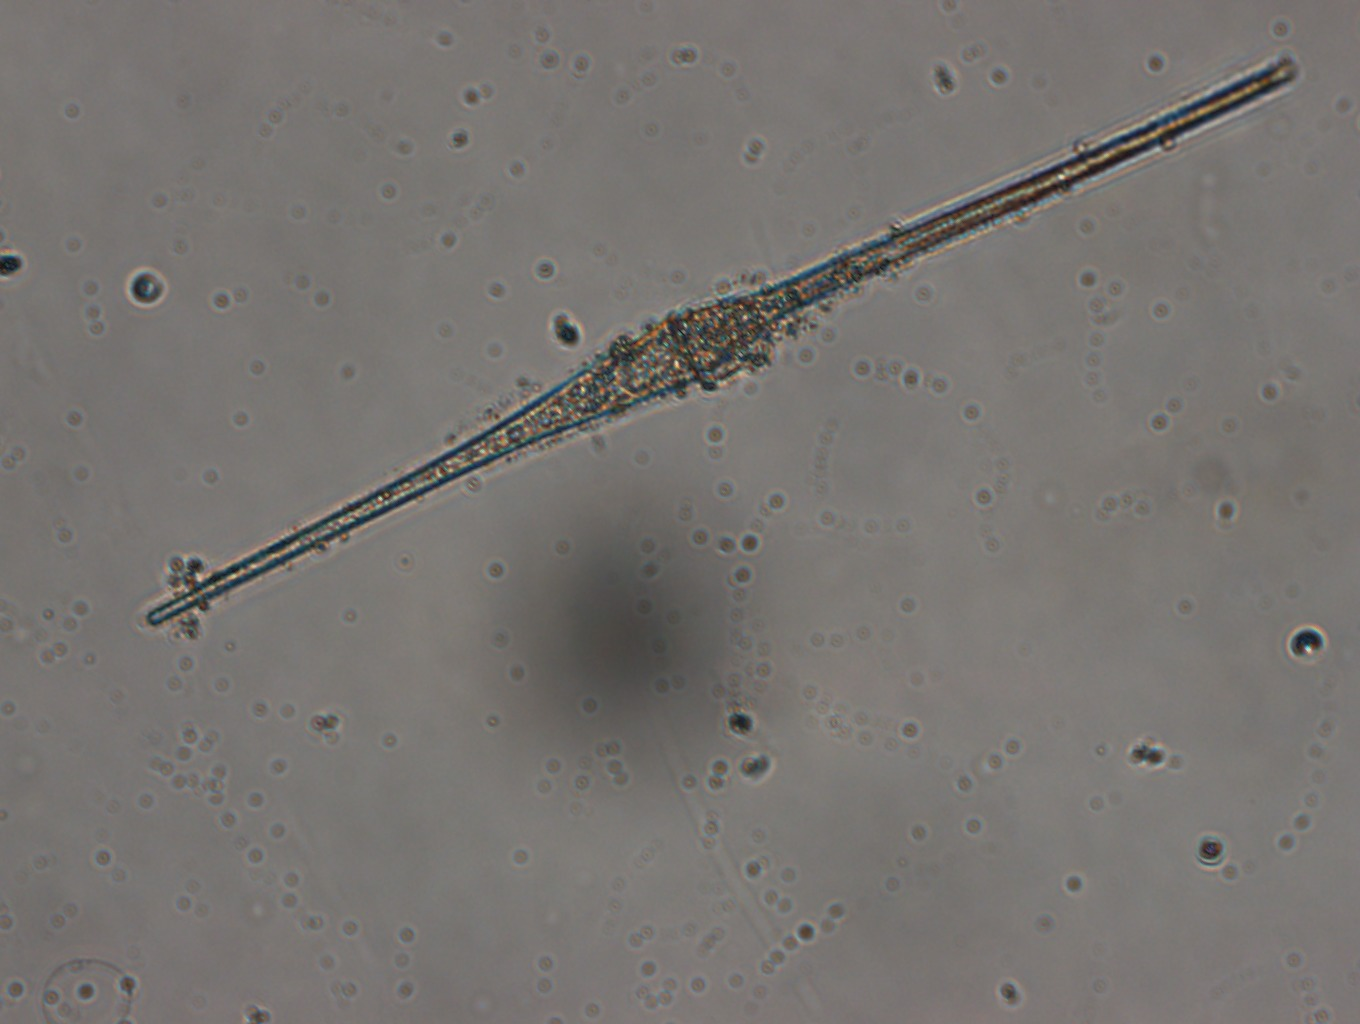ceratium fusus: (144, 52, 1299, 629)
